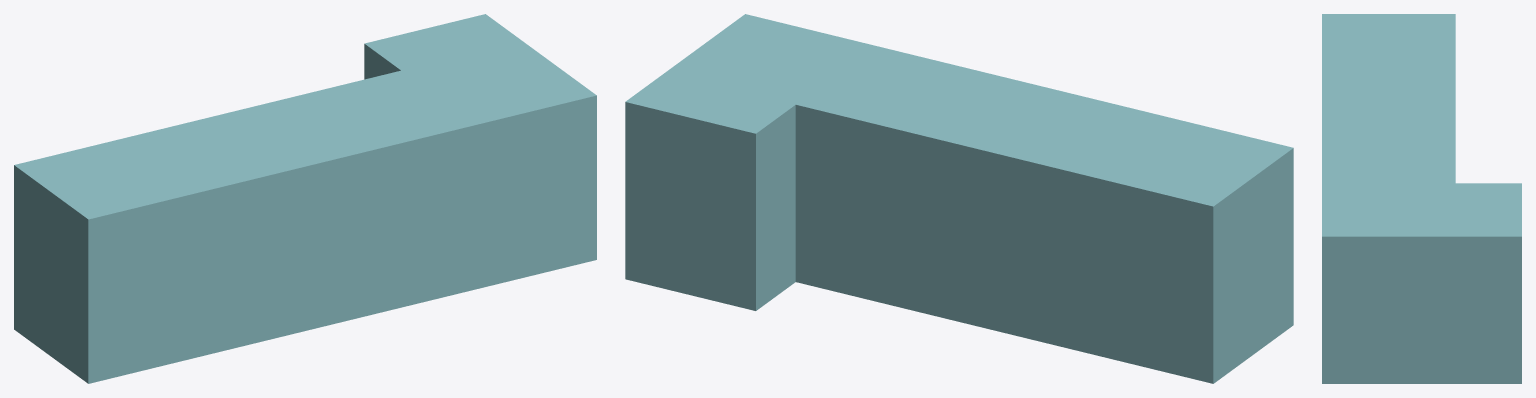
The model's file is tayNamCuaChinh.obj.
3 renders of one model, left to right at view 1: azimuth 30°, elevation 25°; view 2: azimuth 150°, elevation 25°; view 3: azimuth 270°, elevation 25°, orthographic. The views are drawn at different scales.
Parts seen in each view (by area): view 1: Cube.107_Mesh; view 2: Cube.107_Mesh; view 3: Cube.107_Mesh.
Boxes of the visible parts, x1,y1,x2,y2 form: Cube.107_Mesh: (14,14,596,383); Cube.107_Mesh: (625,14,1293,383); Cube.107_Mesh: (1322,14,1521,383).
Size of the model in its own units: 0.6329 by 0.1956 by 0.24.
